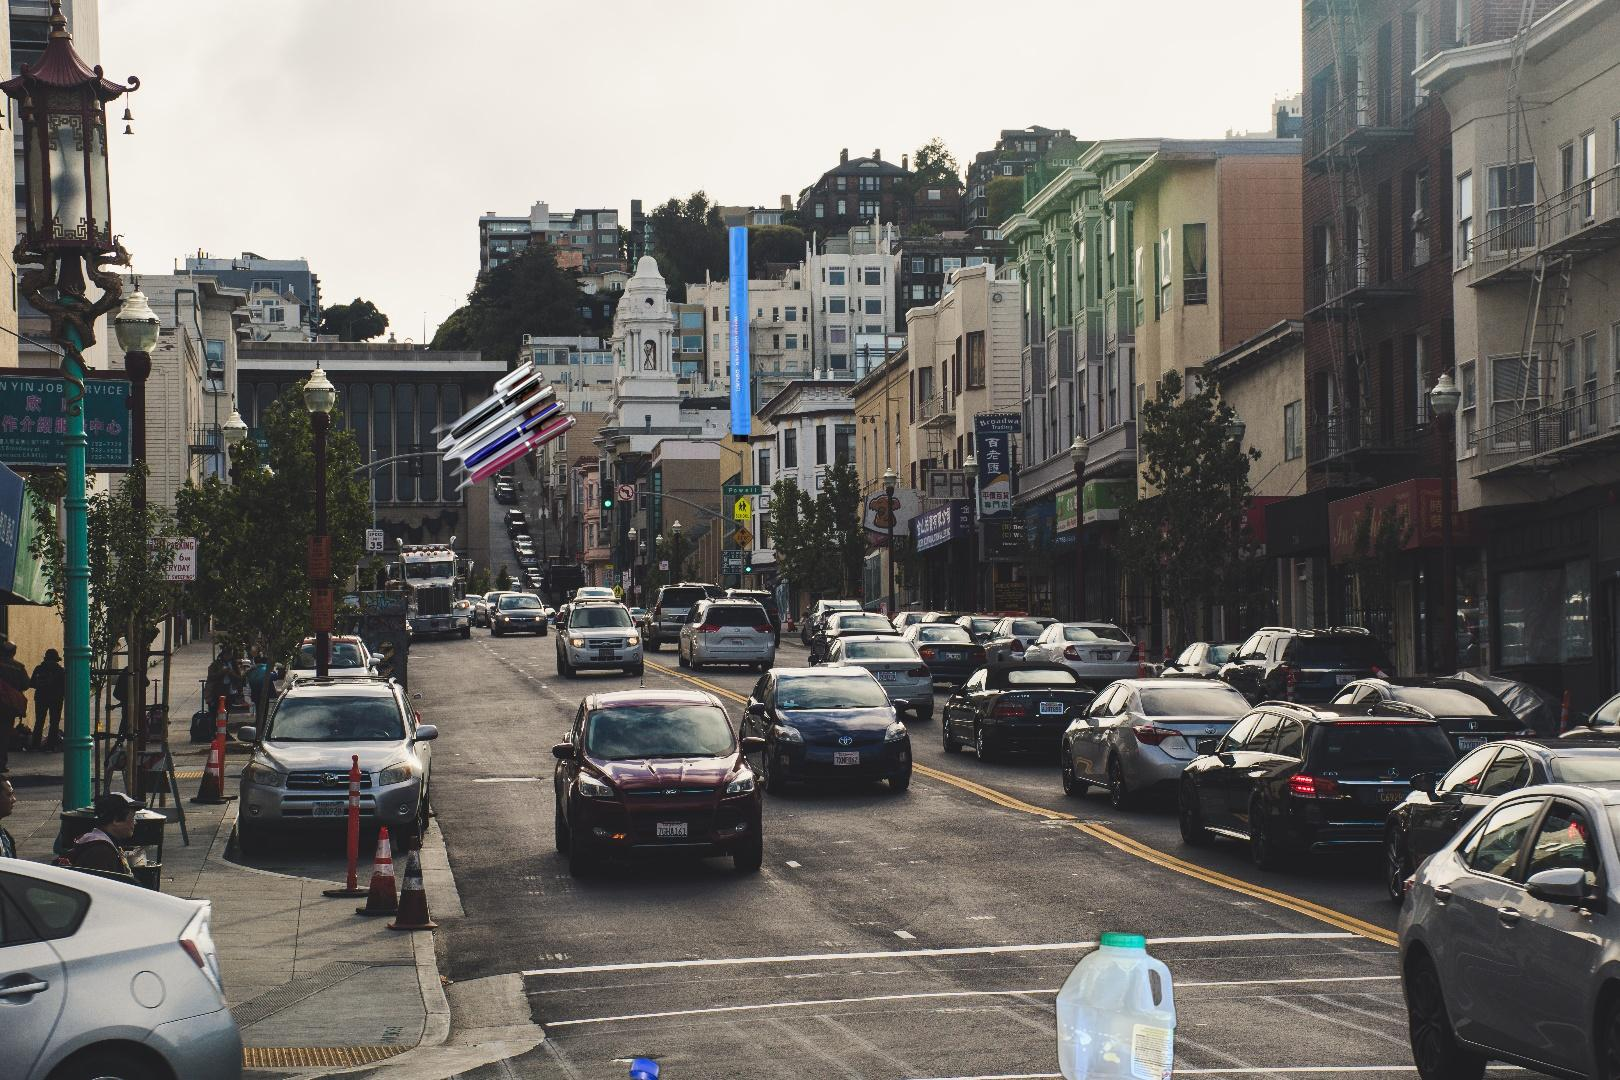penholder: (429, 357, 579, 495), (726, 224, 794, 444)
plastic-bottles: (1050, 926, 1182, 1080), (558, 994, 715, 1080)
